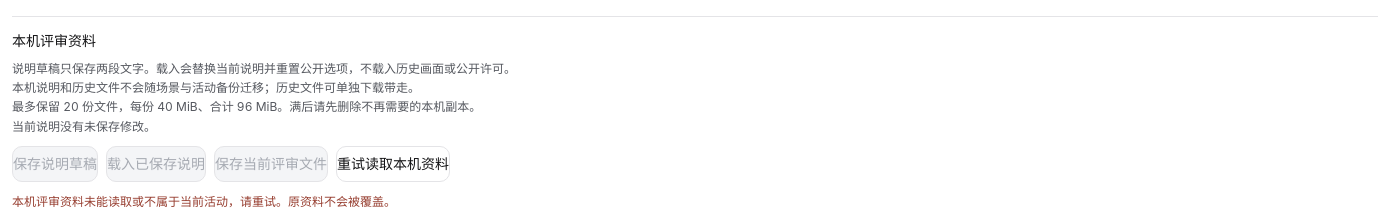
Test: local review library panel › preserves a failed initial read, allows retry, and never writes an empty replacement
Expected: the button "保存说明草稿" is disabled, top-left (12, 146), bottom-right (98, 182)
Click the button "重试读取本机资料" at (393, 164), box top-left (336, 146), bottom-right (450, 182)
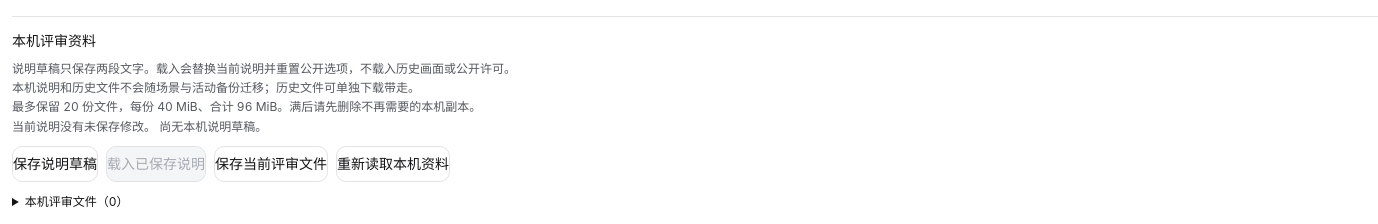
Expected: the button "保存说明草稿" is enabled, top-left (12, 146), bottom-right (98, 182)
Expected: the message "本机评审资料未能读取或不属于当前活动，请重试。原资料不会被覆盖。" is gone
